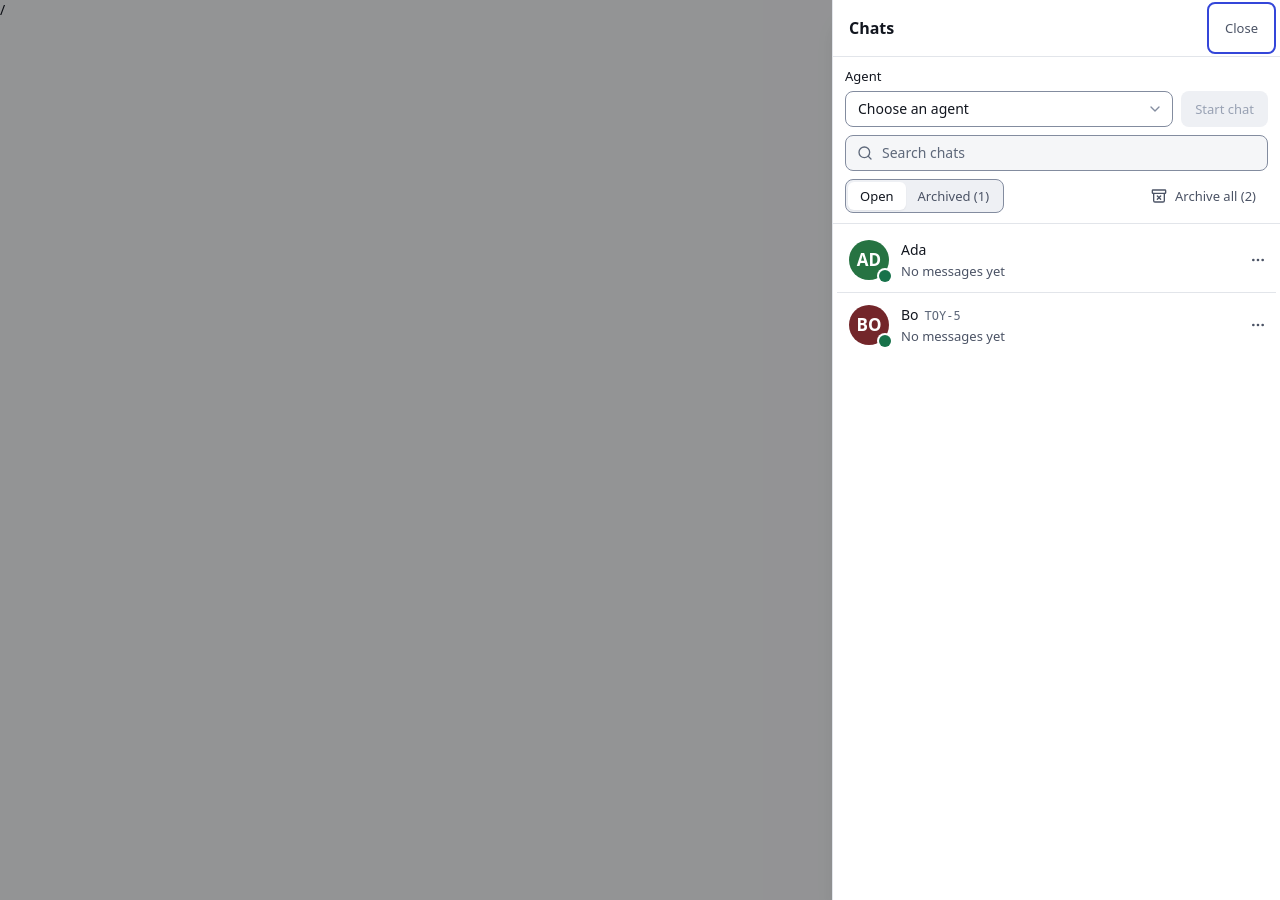
Test: chat list: close and delete › Delete asks first and is removed for good
Click the button named "Actions for the chat with Ada" at (1258, 260), box [1240, 242, 1276, 278]
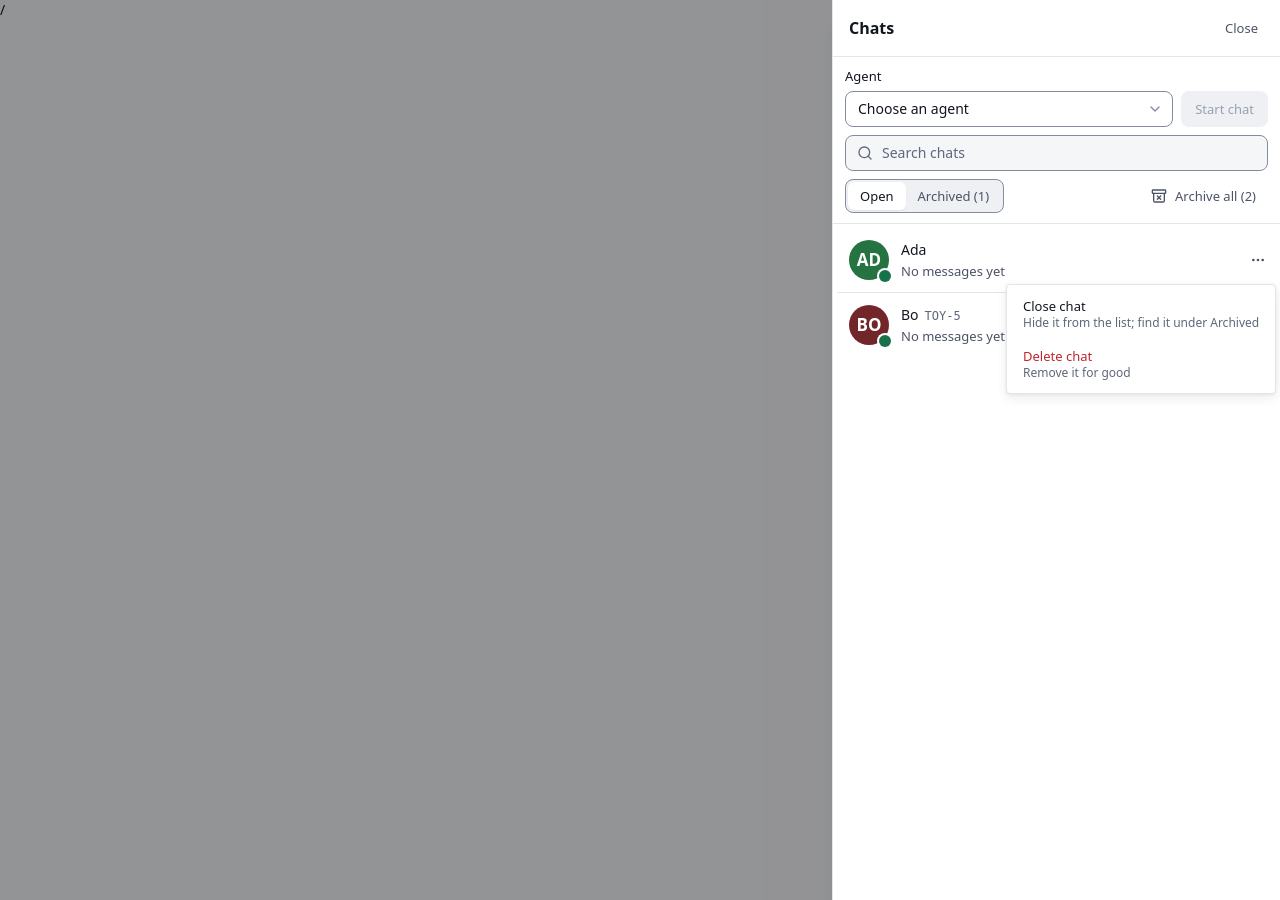
Click the menu item "Delete chat Remove it for good" at (1077, 364), box [1023, 347, 1131, 381]
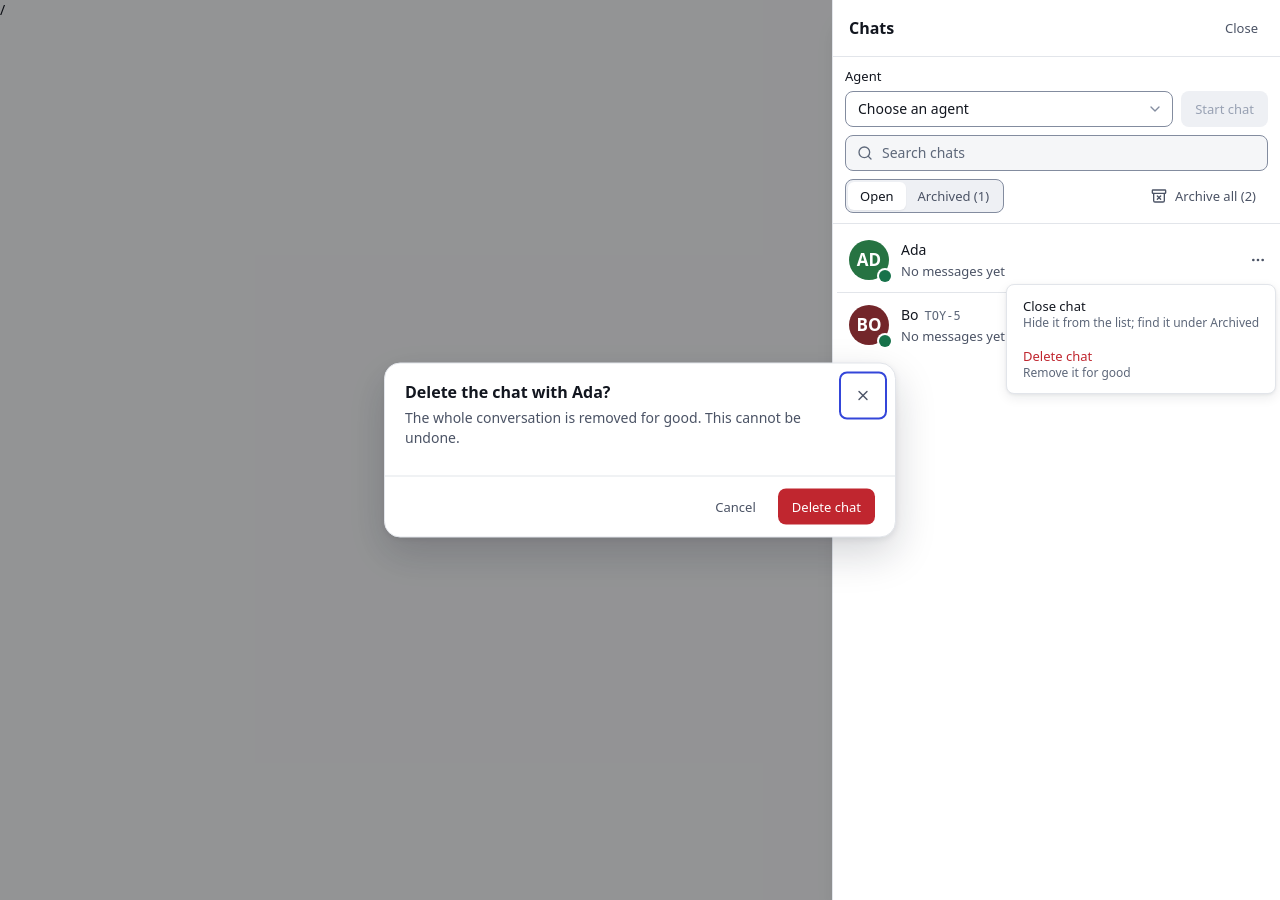
Now the dialog "Delete the chat with Ada" shows "cannot be undone", box [405, 408, 801, 446]
Click the button "Delete chat" at (826, 506), box [778, 488, 875, 524]
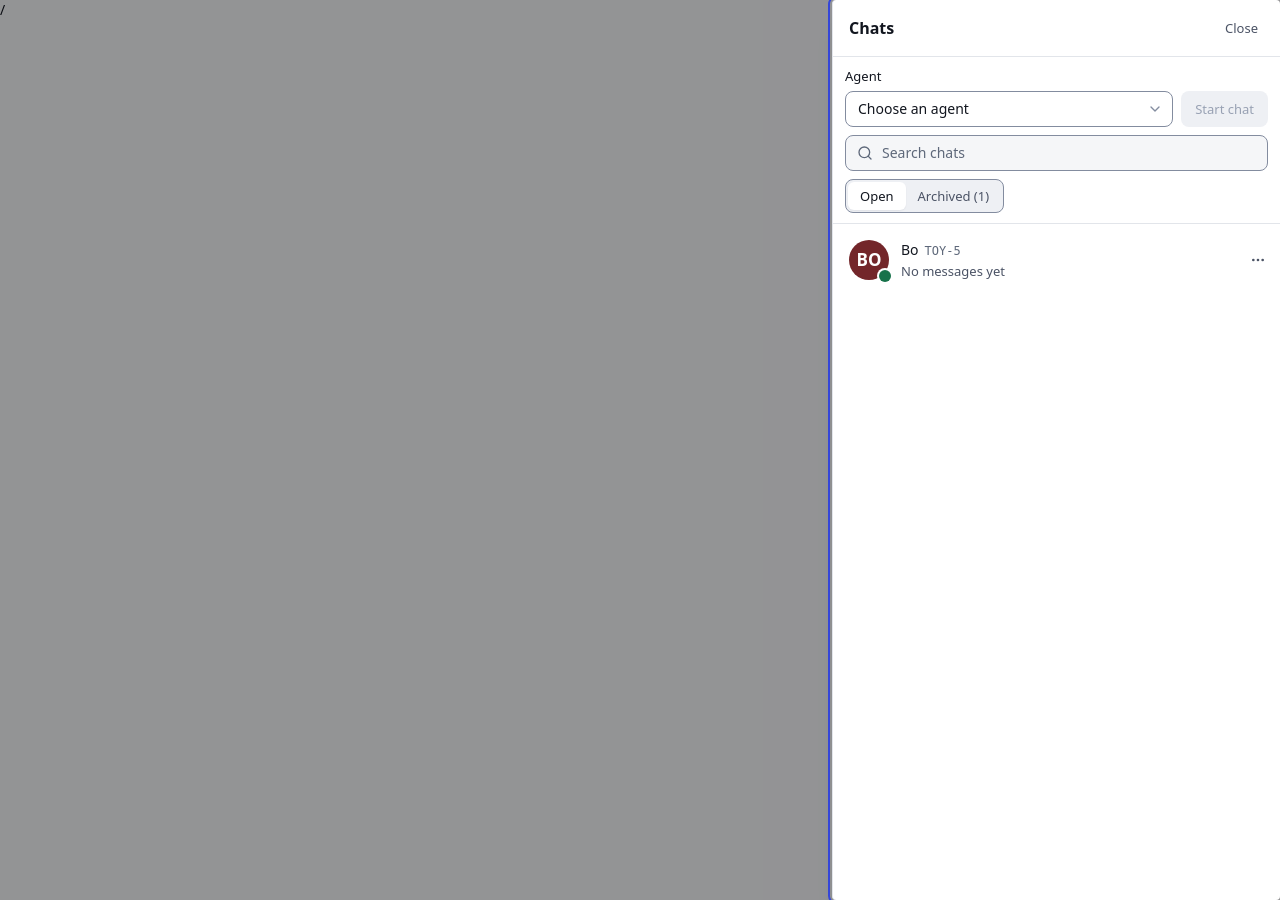
Now the list item with test id "chat-row-Ada" is gone
